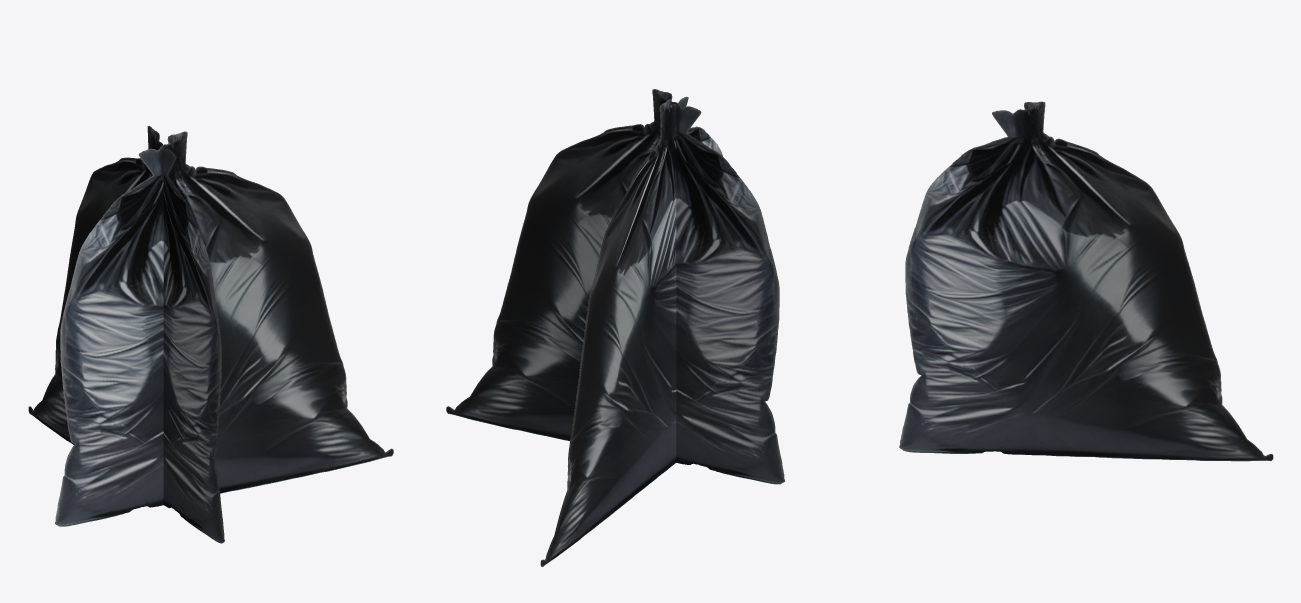
File: [NEW]trash1_model.fbx
3 renders of one model, left to right at view 1: azimuth 30°, elevation 25°; view 2: azimuth 150°, elevation 25°; view 3: azimuth 270°, elevation 25°, orthographic. The views are drawn at different scales.
Parts seen in each view (by area): view 1: trash1_material, trash1_material.001; view 2: trash1_material, trash1_material.001; view 3: trash1_material.001.
Boxes of the visible parts, <box> form: trash1_material: <box>55,131,393,526</box>; trash1_material.001: <box>28,126,224,543</box>; trash1_material: <box>446,89,784,484</box>; trash1_material.001: <box>540,96,722,566</box>; trash1_material.001: <box>899,101,1273,461</box>.
Bounding box in the file's own units: 100 × 100 × 100.
